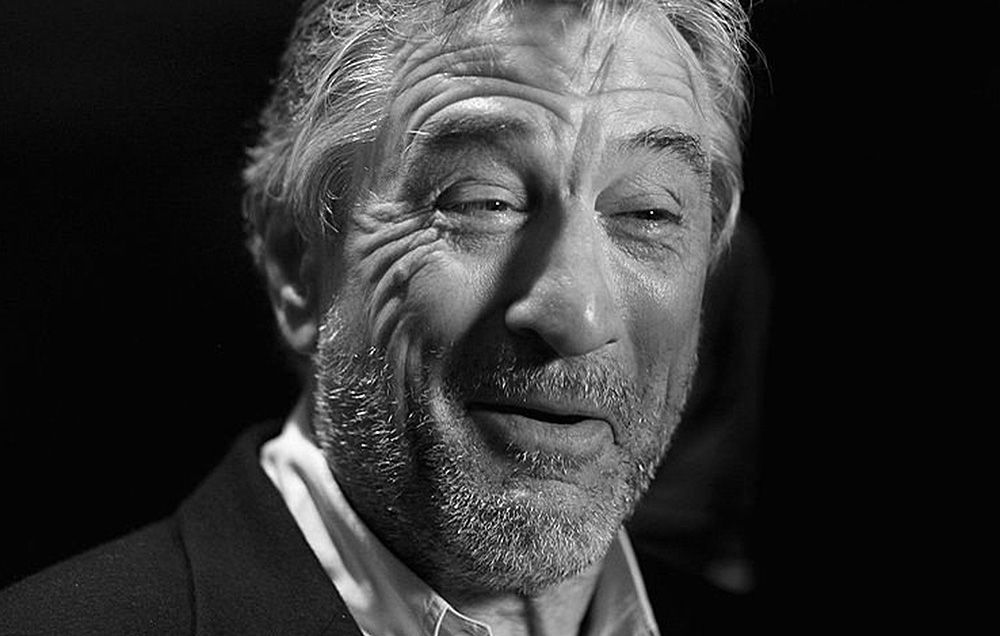WRINKLES: (415, 41, 531, 98), (362, 260, 416, 347), (352, 210, 443, 257), (514, 78, 567, 120)
